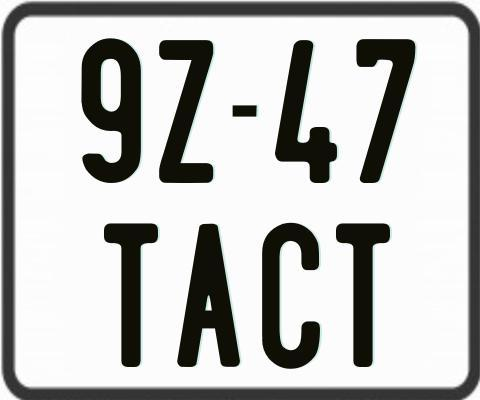4: (272, 38, 336, 183)
7: (353, 36, 417, 181)
9: (79, 35, 143, 184)
A: (177, 222, 246, 368)
C: (261, 222, 322, 372)
T: (334, 223, 394, 371), (102, 223, 161, 368)
Z: (157, 37, 214, 181)
